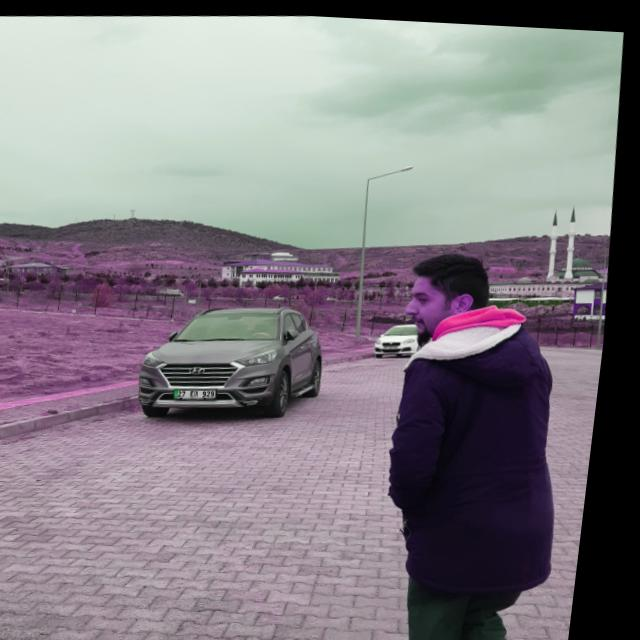license_plate: (184, 385, 226, 398)
